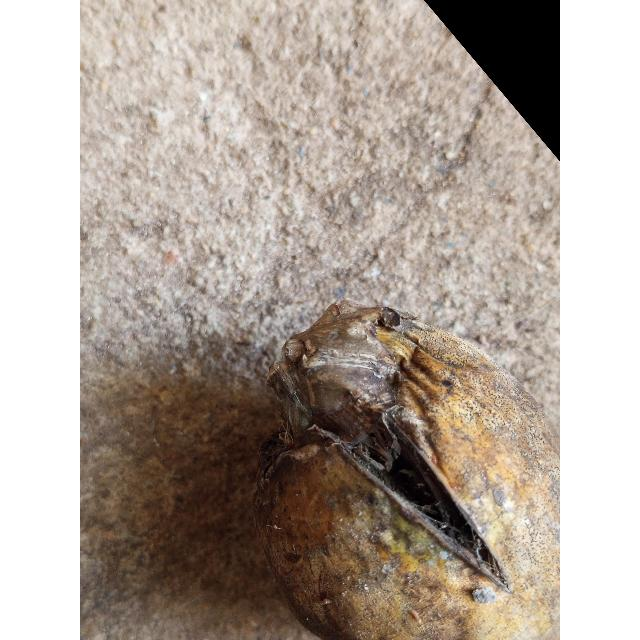damaged: (254, 301, 560, 640)
